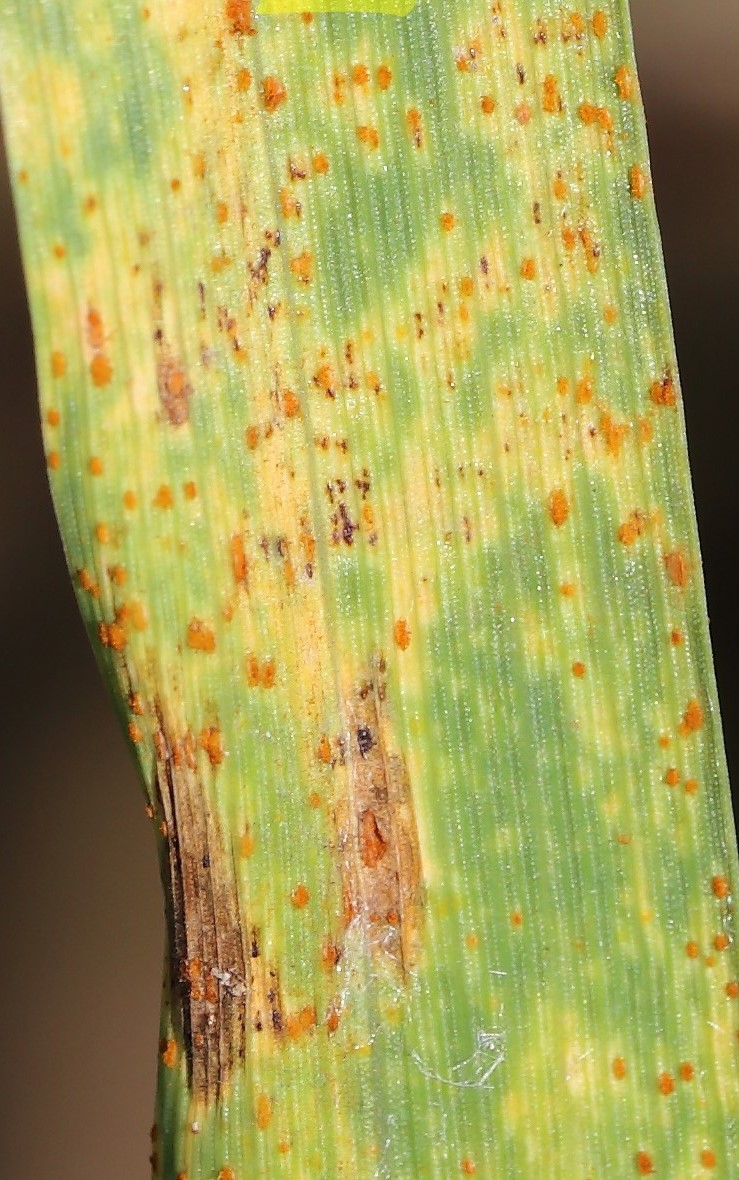Leaf Rust: (76, 114, 739, 1104)
